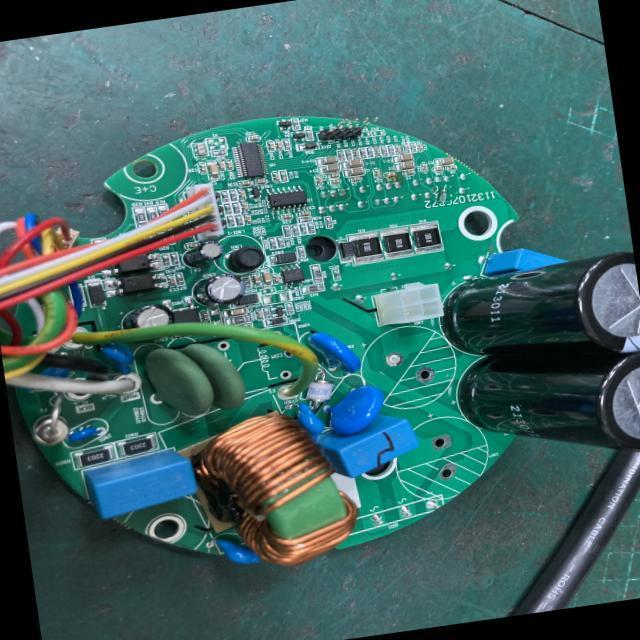damged: (434, 184, 453, 202)
